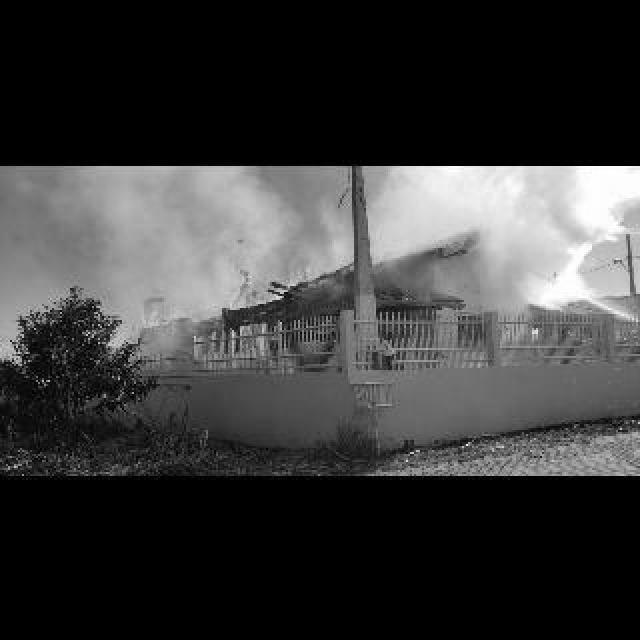Fire: (230, 264, 320, 348), (140, 292, 190, 328)
Smoke: (398, 224, 572, 324)
